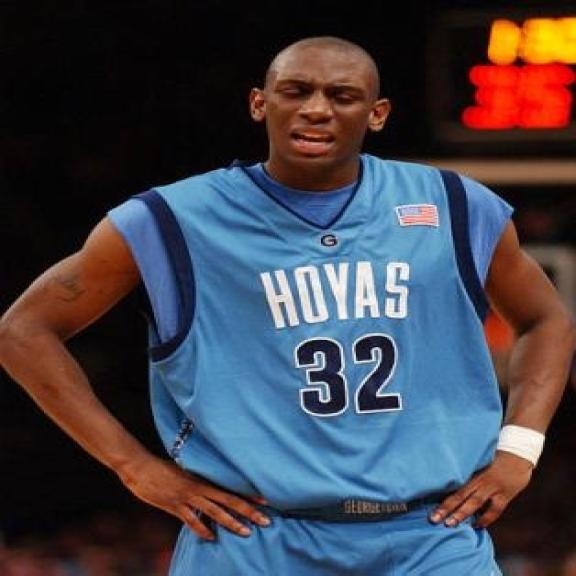face: (248, 47, 395, 171)
